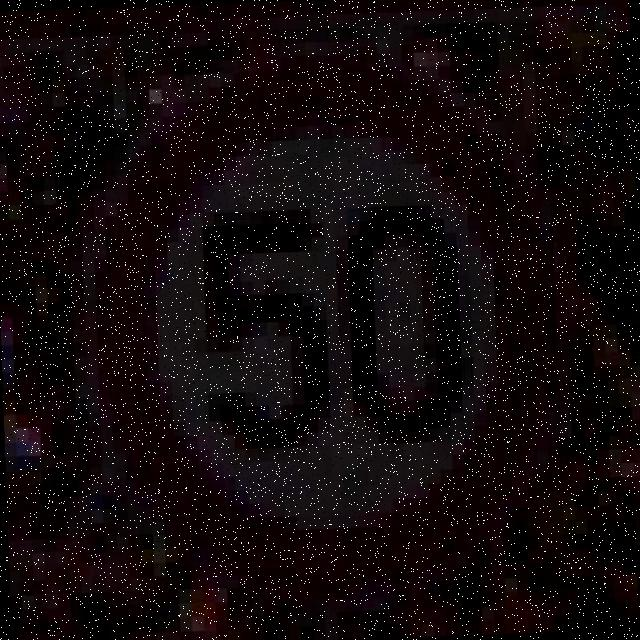Ograniczenie predkosci do 50: (93, 55, 564, 598)
